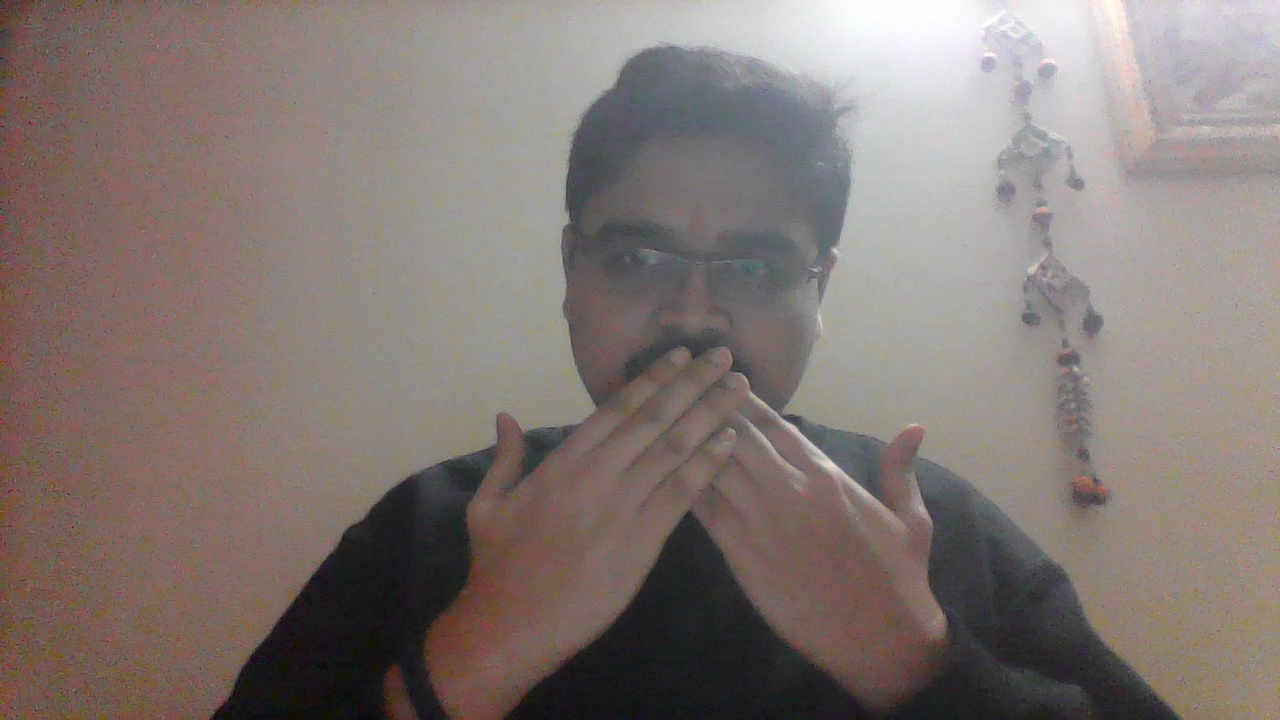Thanks: (441, 344, 941, 663)
